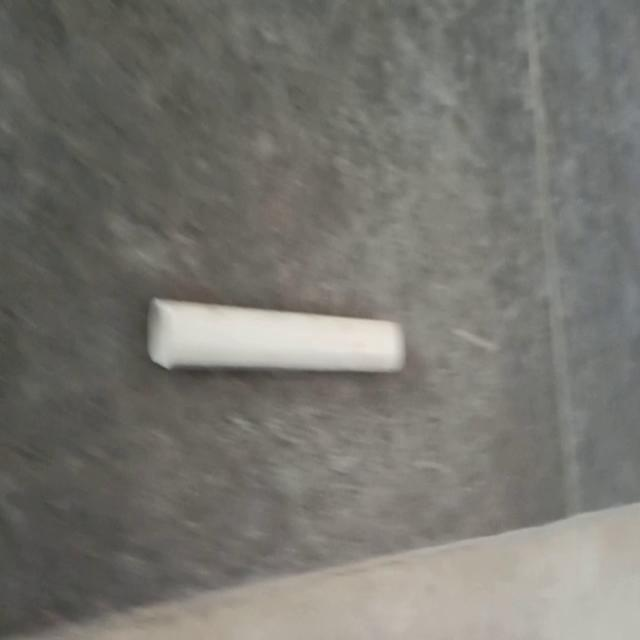Cube: (146, 293, 407, 375)
